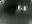person: (16, 5, 23, 16), (22, 6, 29, 15)
